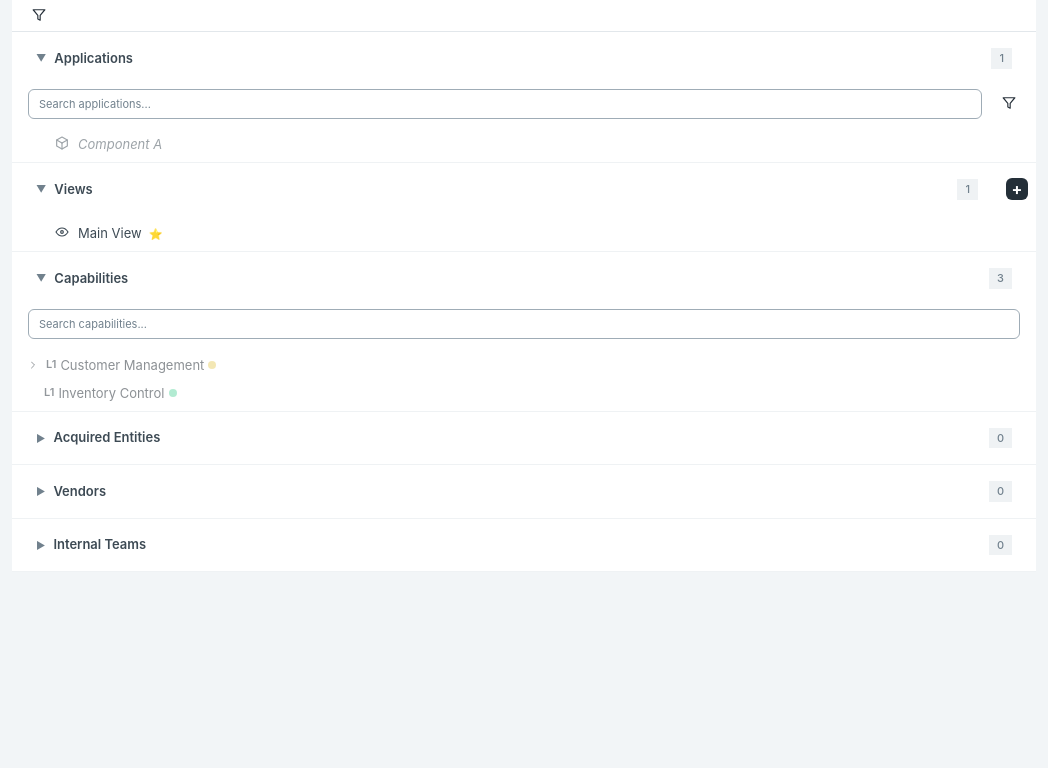
Test: Capability UI Consistency › Context Menu Consistency › Tree Context Menu for Components › should show Edit option in component tree context menu
The width and height of the screenshot is (1048, 768).
Check: the text "Component A" is shown, box x1=78 y1=136 x2=162 y2=152
Right-click the button "Component A": (120, 144) x1=12 y1=126 x2=1036 y2=162
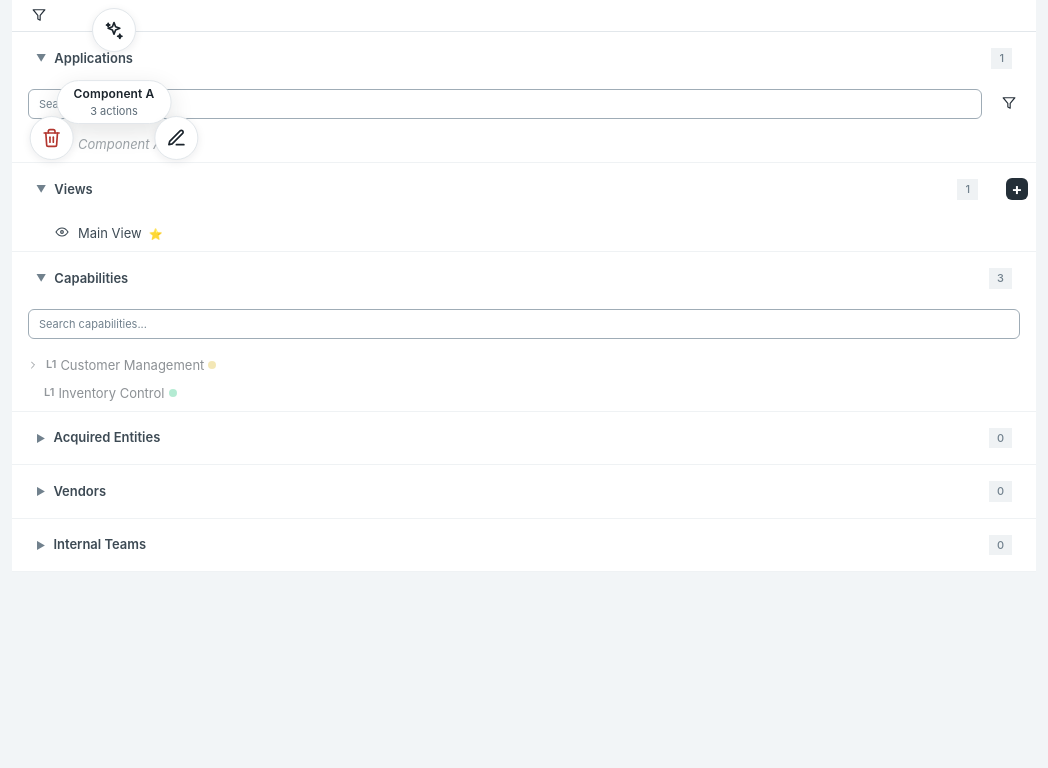
Check: the menu item named "Edit" is shown, box x1=154 y1=116 x2=198 y2=160
